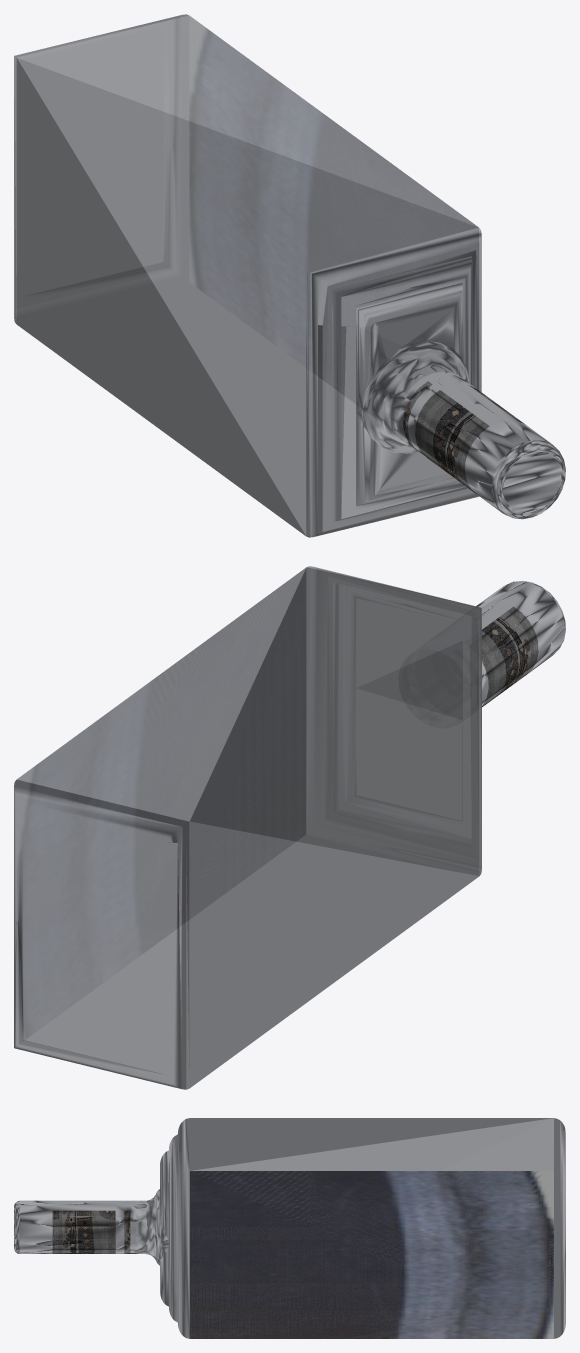
Rendered from model_align.obj.
3 renders of one model, top to bottom at view 1: azimuth 30°, elevation 25°; view 2: azimuth 150°, elevation 25°; view 3: azimuth 270°, elevation 25°, orthographic. The views are drawn at different scales.
Bounding box in the file's own units: 0.0365 × 0.0539 × 0.1606.
